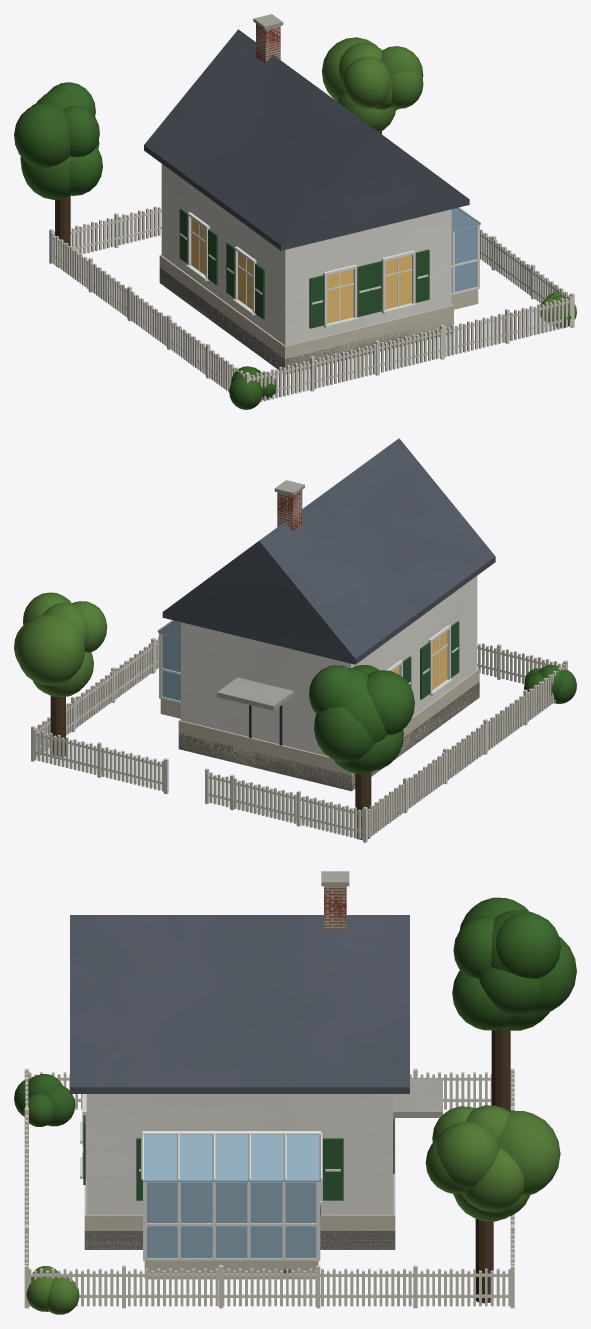
The model's file is dum_18_stare_3.glb.
The picture shows the model from 3 angles, top to bottom: view 1: azimuth 30°, elevation 25°; view 2: azimuth 150°, elevation 25°; view 3: azimuth 270°, elevation 25°; orthographic projection. The views are drawn at different scales.
Parts seen in each view (by area): view 1: dum, noc; view 2: dum, noc; view 3: dum.
Boxes of the visible parts, <box> form: dum: <box>14,14,576,409</box>; noc: <box>191,218,411,323</box>; dum: <box>14,438,576,842</box>; noc: <box>392,631,447,689</box>; dum: <box>14,871,576,1314</box>.
Bounding box in the file's own units: 13.11 × 8.54 × 13.27.
1 material, 1 textured.
